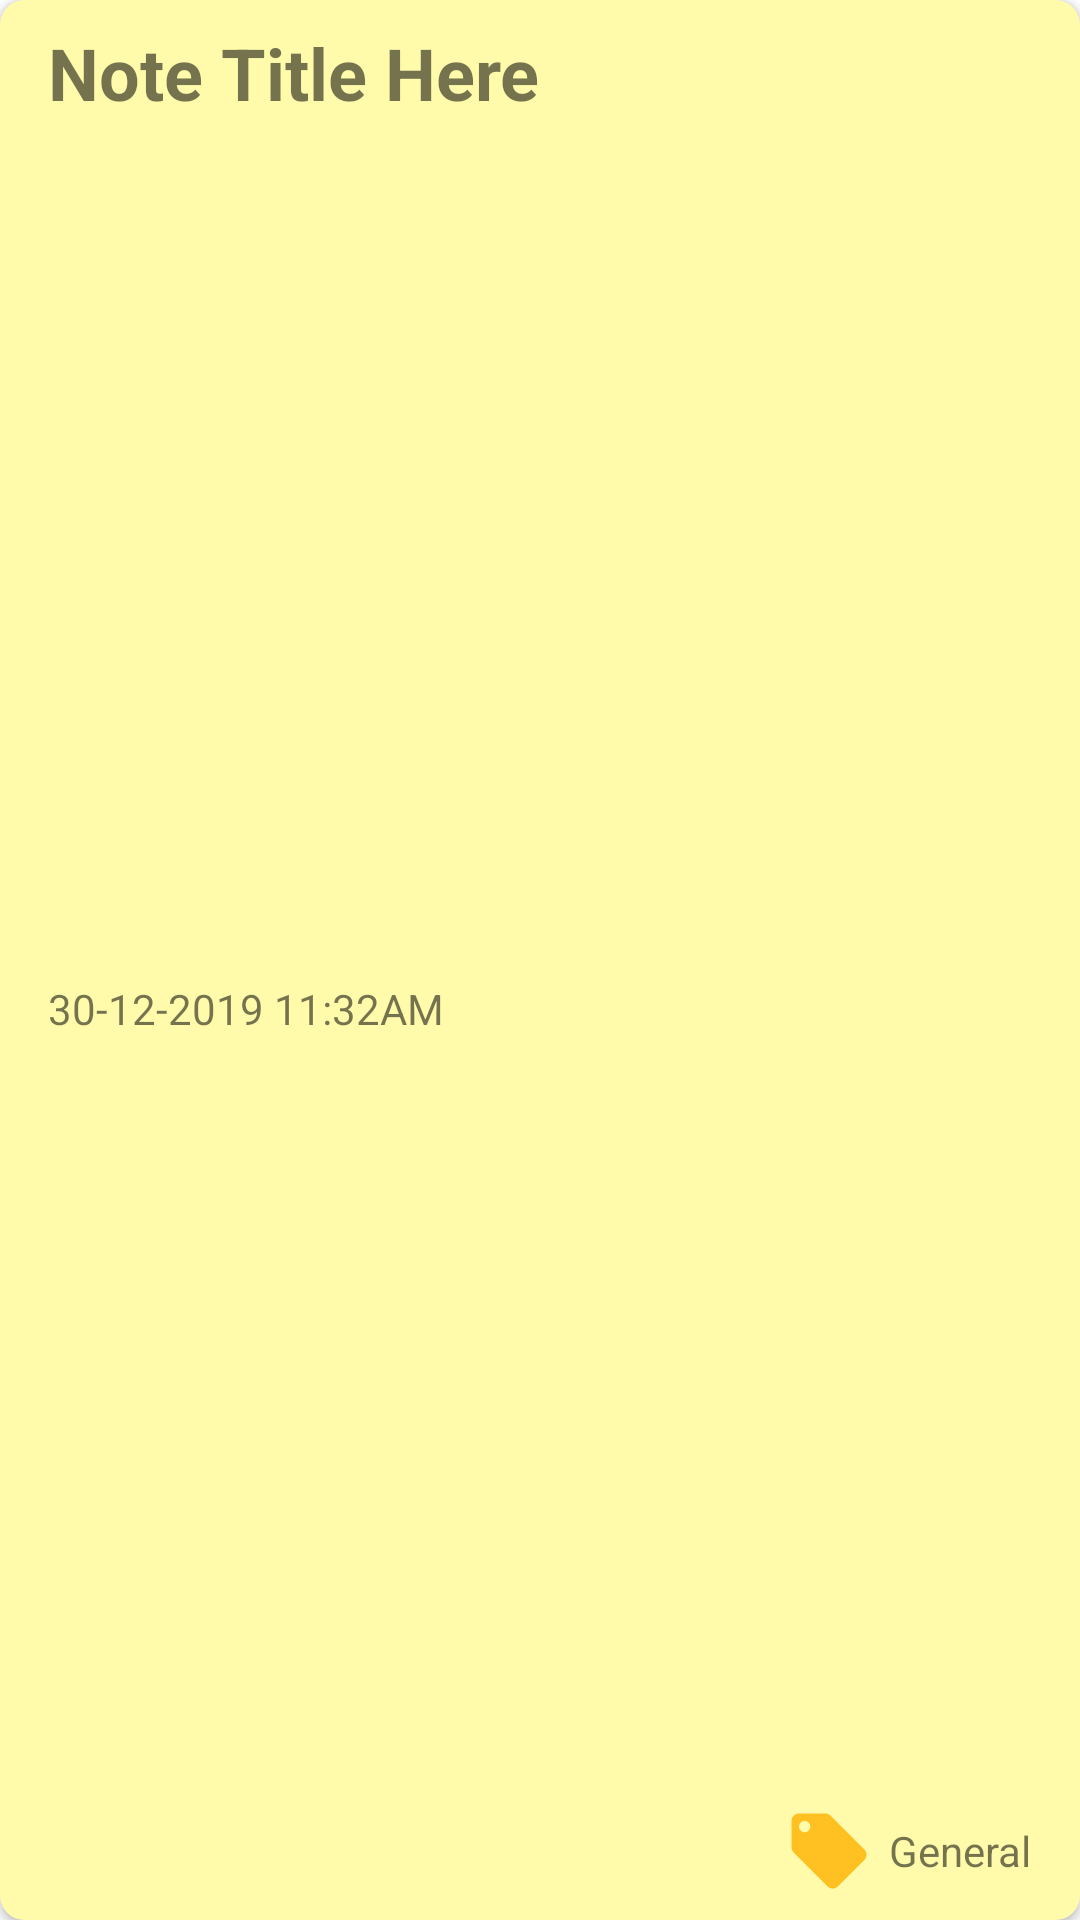

Named icons in this screenshot (1080px×1920px) and their centers, [x,y]:
note entry tag: [829,1851]
